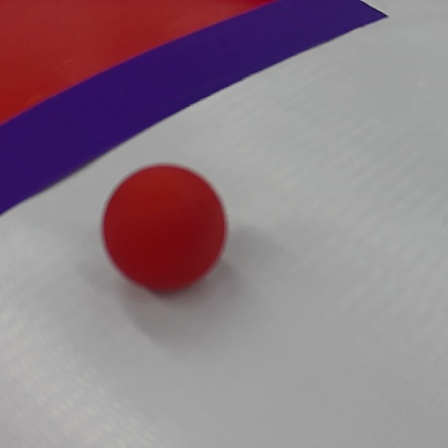red: (101, 163, 232, 302)
red_aim: (0, 0, 387, 229)
